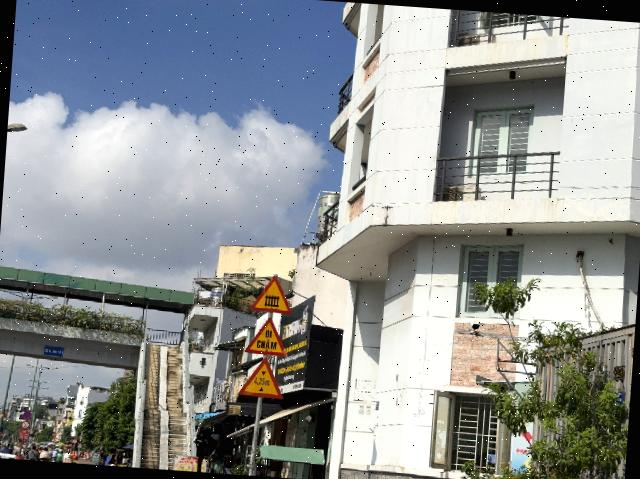chieu-cao-tinh-khong-thuc-te: (238, 356, 286, 400)
di-cham: (243, 315, 290, 357)
noi-giao-nhau-voi-duong-sat-co-rao-chan: (249, 273, 295, 315)
